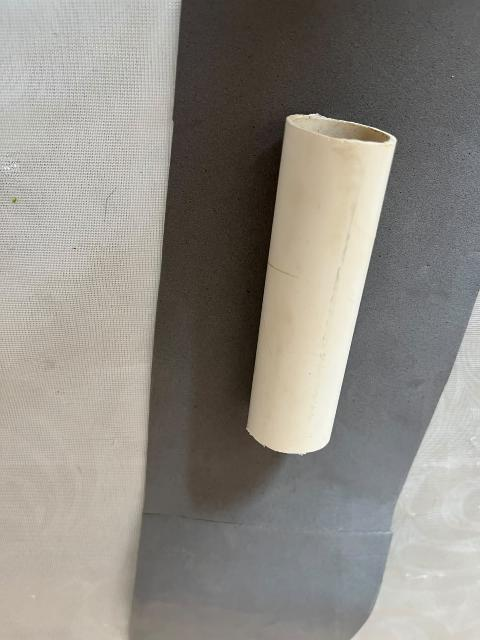PVC: (239, 86, 414, 460)
